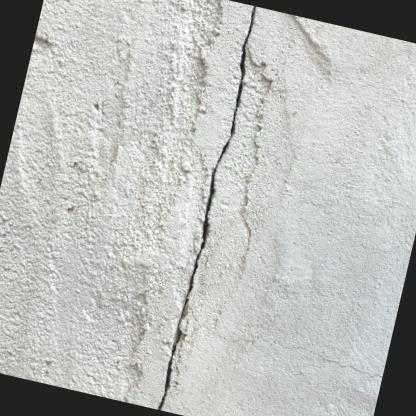crack: (155, 5, 256, 410)
